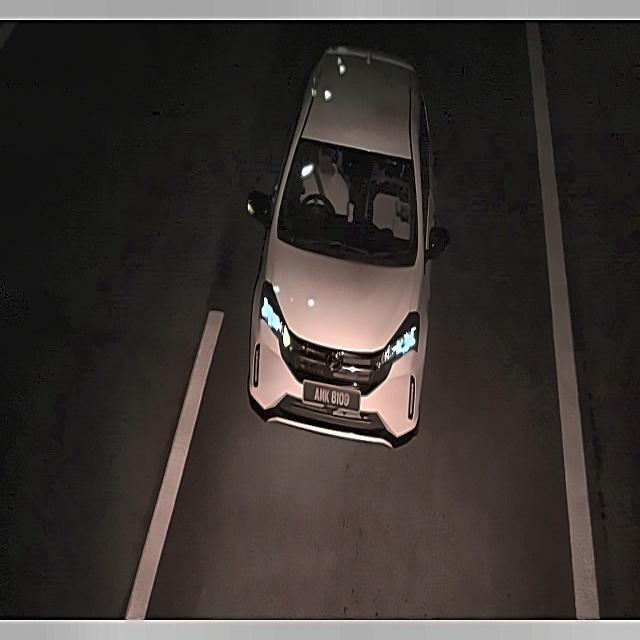car: (301, 376, 362, 418)
